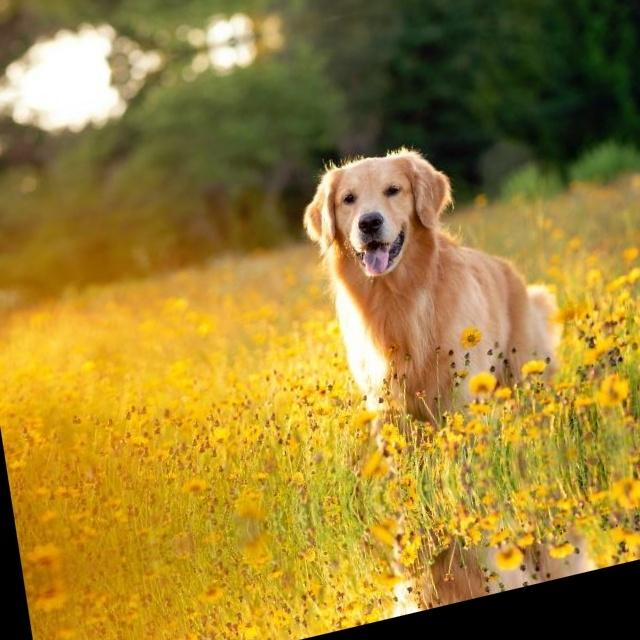dog: (290, 95, 582, 439), (354, 516, 609, 626)
